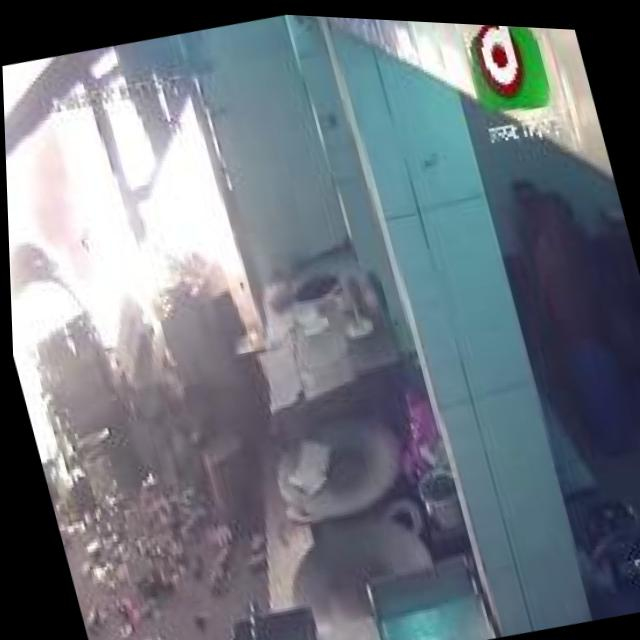fire: (8, 60, 264, 388), (2, 58, 151, 482)
